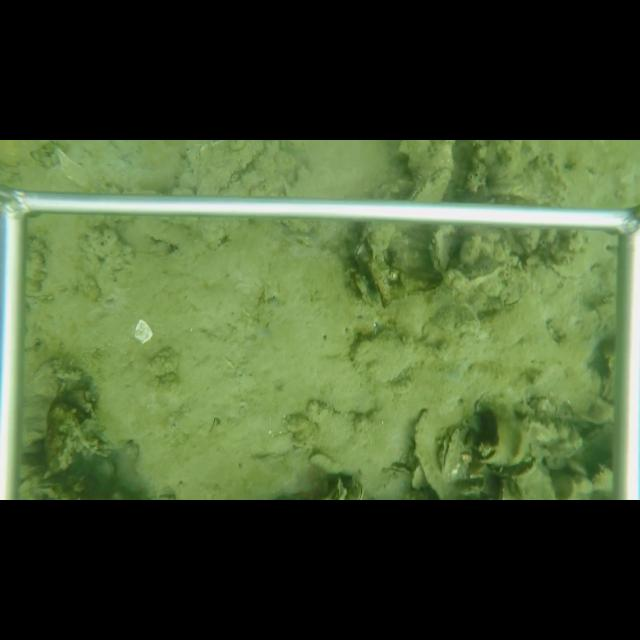Oyster-Closed: (346, 325, 438, 385), (195, 141, 268, 195), (406, 165, 453, 202), (429, 224, 463, 274)
Oyster-Open: (436, 425, 462, 478)
